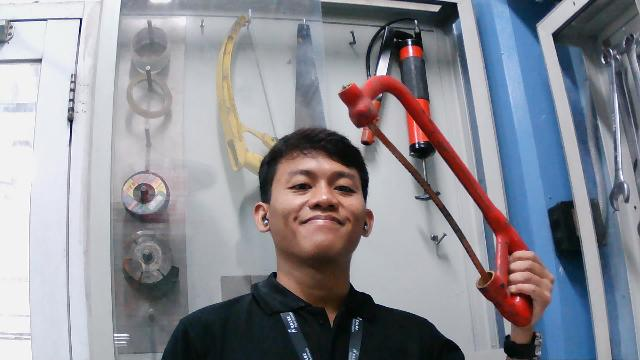gergaji_besi: (337, 53, 548, 329)
